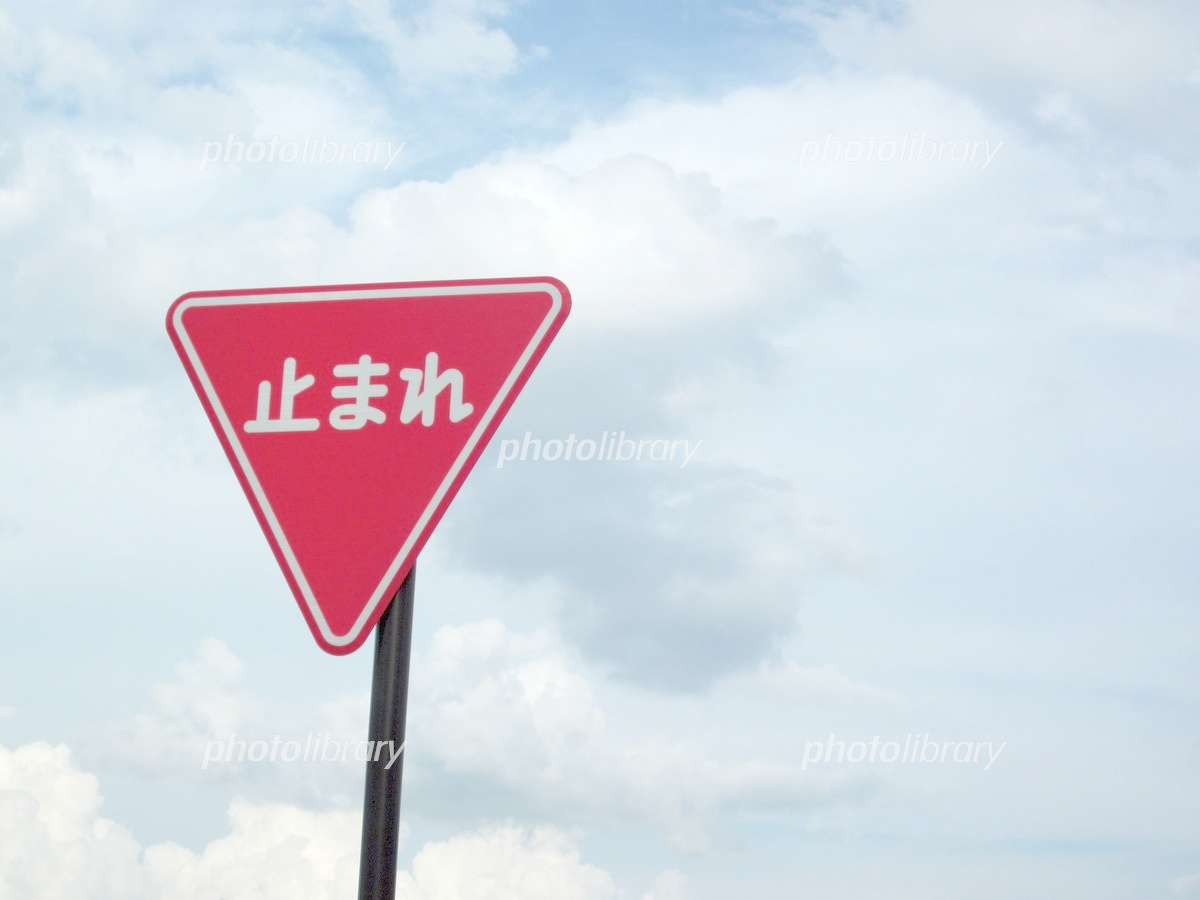Regulatory_sign_triangle: (165, 268, 579, 670)
